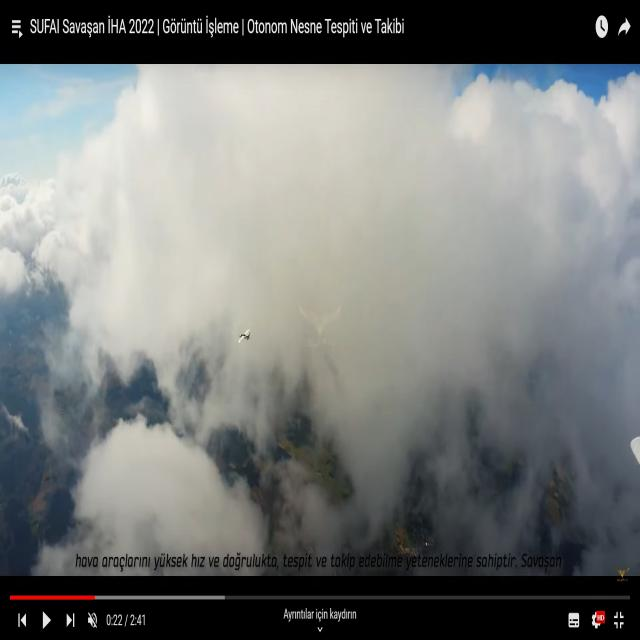iha: (235, 328, 252, 343)
